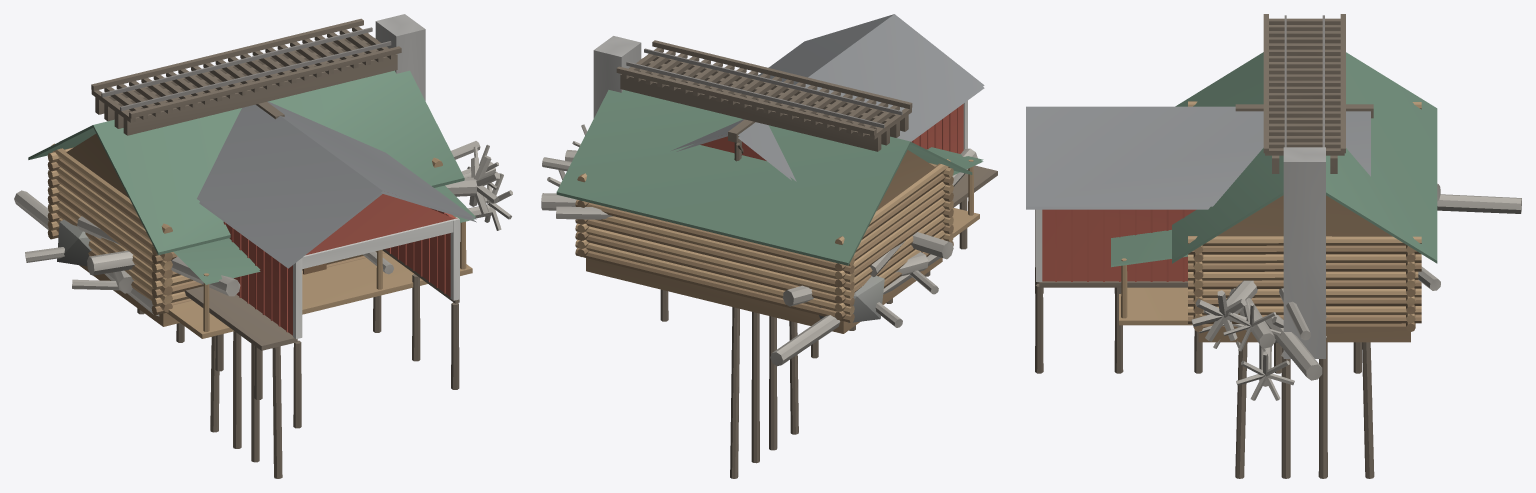
File: glacier_kit.glb
3 renders of one model, left to right at view 1: azimuth 30°, elevation 25°; view 2: azimuth 150°, elevation 25°; view 3: azimuth 270°, elevation 25°, orthographic. The views are drawn at different scales.
Visible parts, largest first — view 1: lodge, boathouse, trestle, logjam, boulders; view 2: lodge, trestle, boathouse, logjam, boulders; view 3: lodge, boathouse, trestle, logjam.
Boxes of the visible parts, x1,y1,x2,y2 form: lodge: (28, 14, 475, 338); boathouse: (137, 101, 476, 428); trestle: (91, 18, 401, 478); logjam: (14, 141, 512, 316); boulders: (57, 219, 91, 266); lodge: (556, 36, 983, 333); trestle: (616, 40, 912, 478); boathouse: (660, 14, 997, 358); logjam: (541, 124, 977, 366); boulders: (819, 275, 884, 322); lodge: (1111, 52, 1437, 358); boathouse: (1026, 106, 1370, 373); trestle: (1235, 14, 1374, 478); logjam: (1191, 183, 1521, 400).
Size of the model in its own units: 18.7 by 16.6 by 18.68.
